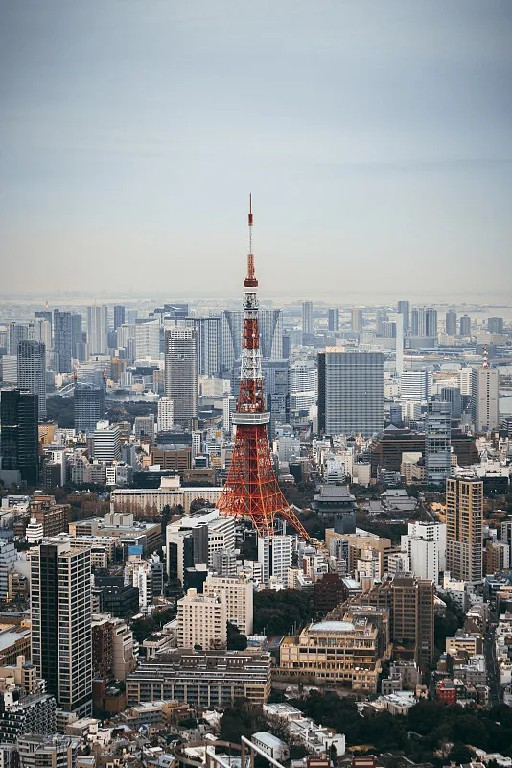Tokyo: (215, 190, 312, 543)
